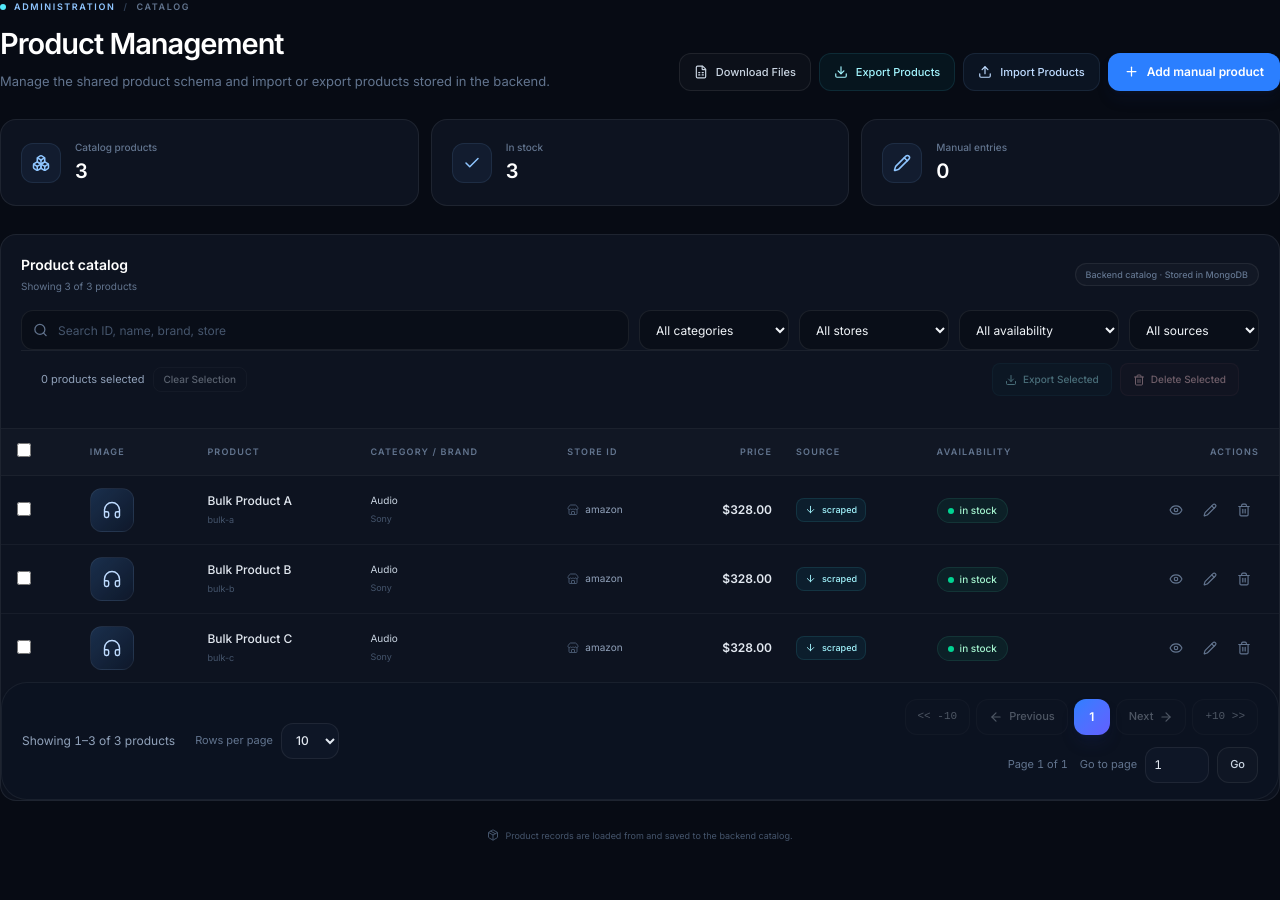
Test: admin and shared user pages › reports partial bulk deletion failures with one warning event
Click the checkbox named "Select all visible products" at (24, 450), box [17,443,31,457]
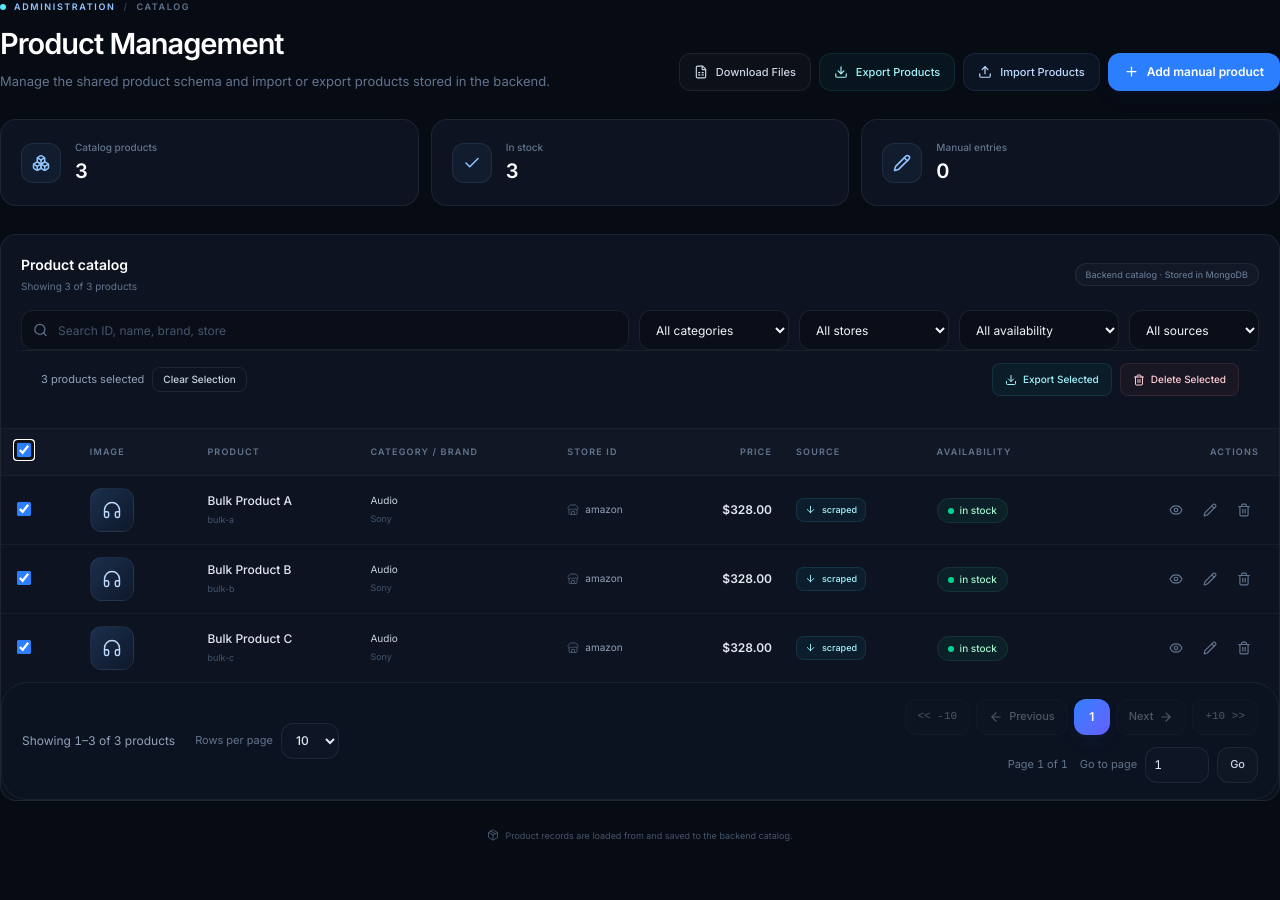
Click the button "Delete Selected" at (1179, 380), box [1120,363,1239,396]
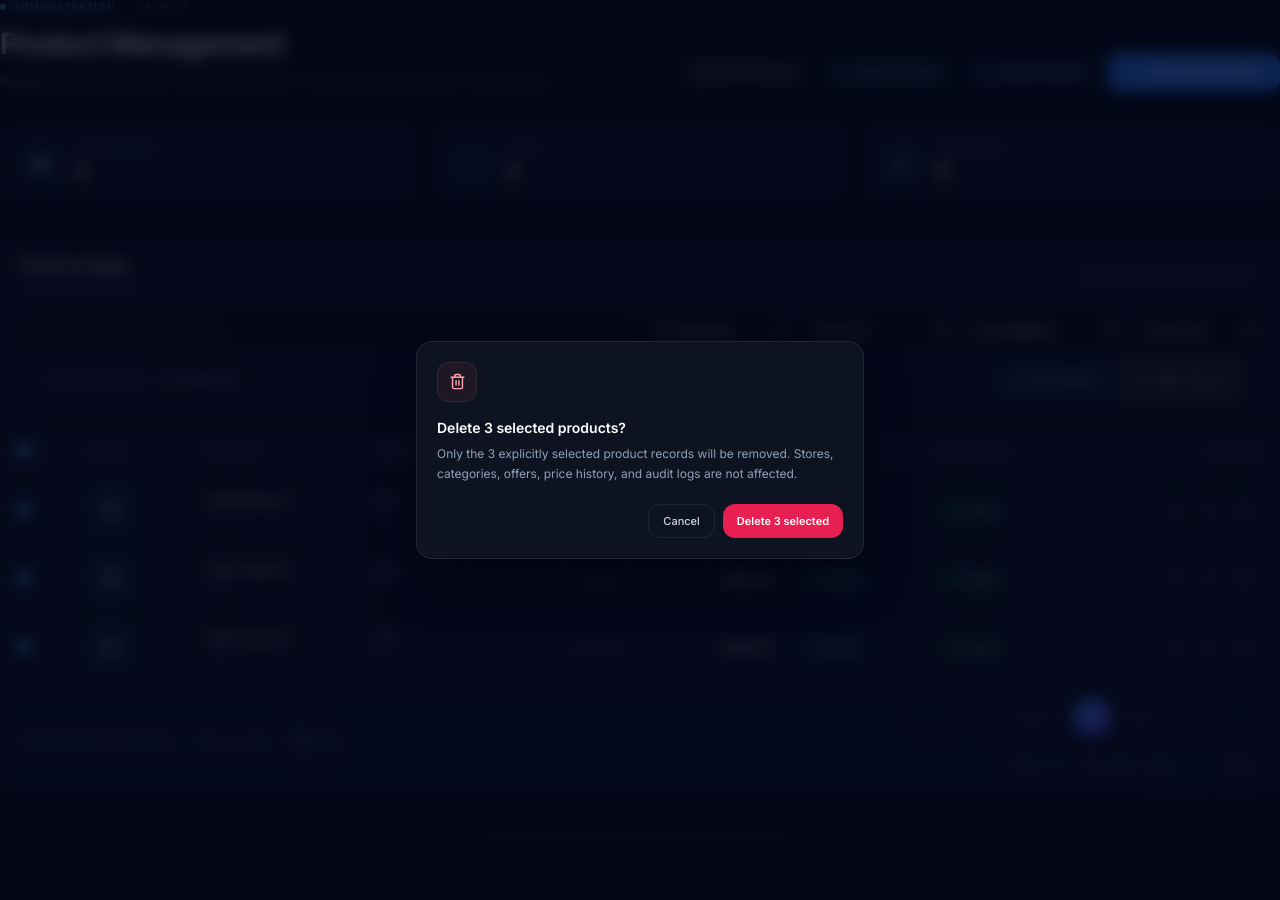
Click the button "Delete 3 selected" at (783, 521), box [723,504,843,538]
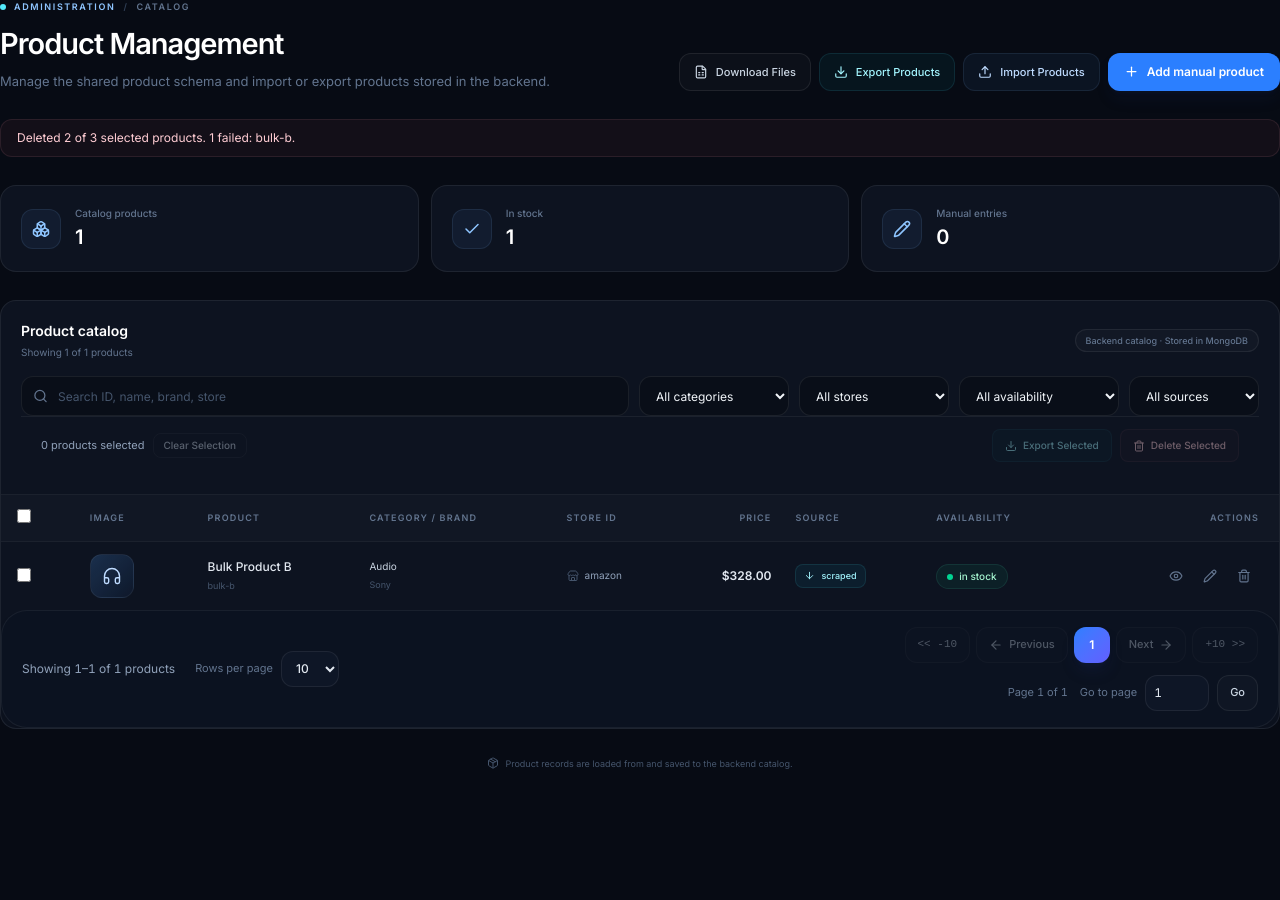
Check: the message shows "Deleted 2 of 3 selected products", box [17,130,295,145]
Check: the message shows "1 failed", box [17,130,295,145]
